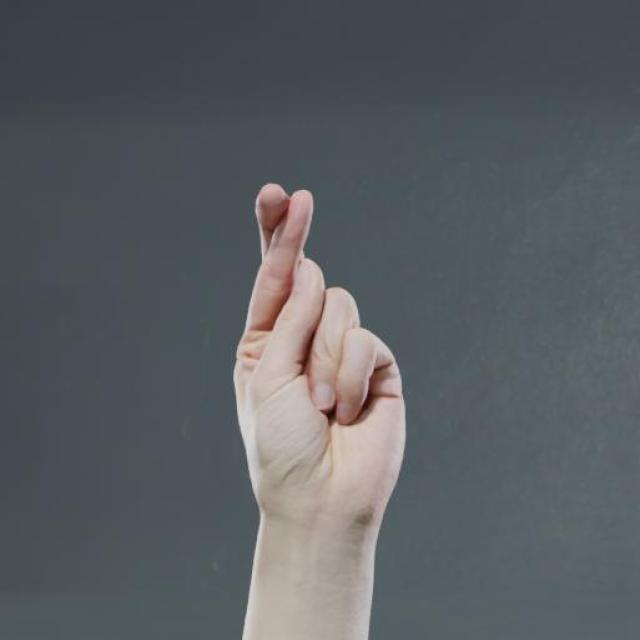R: (228, 181, 407, 543)
